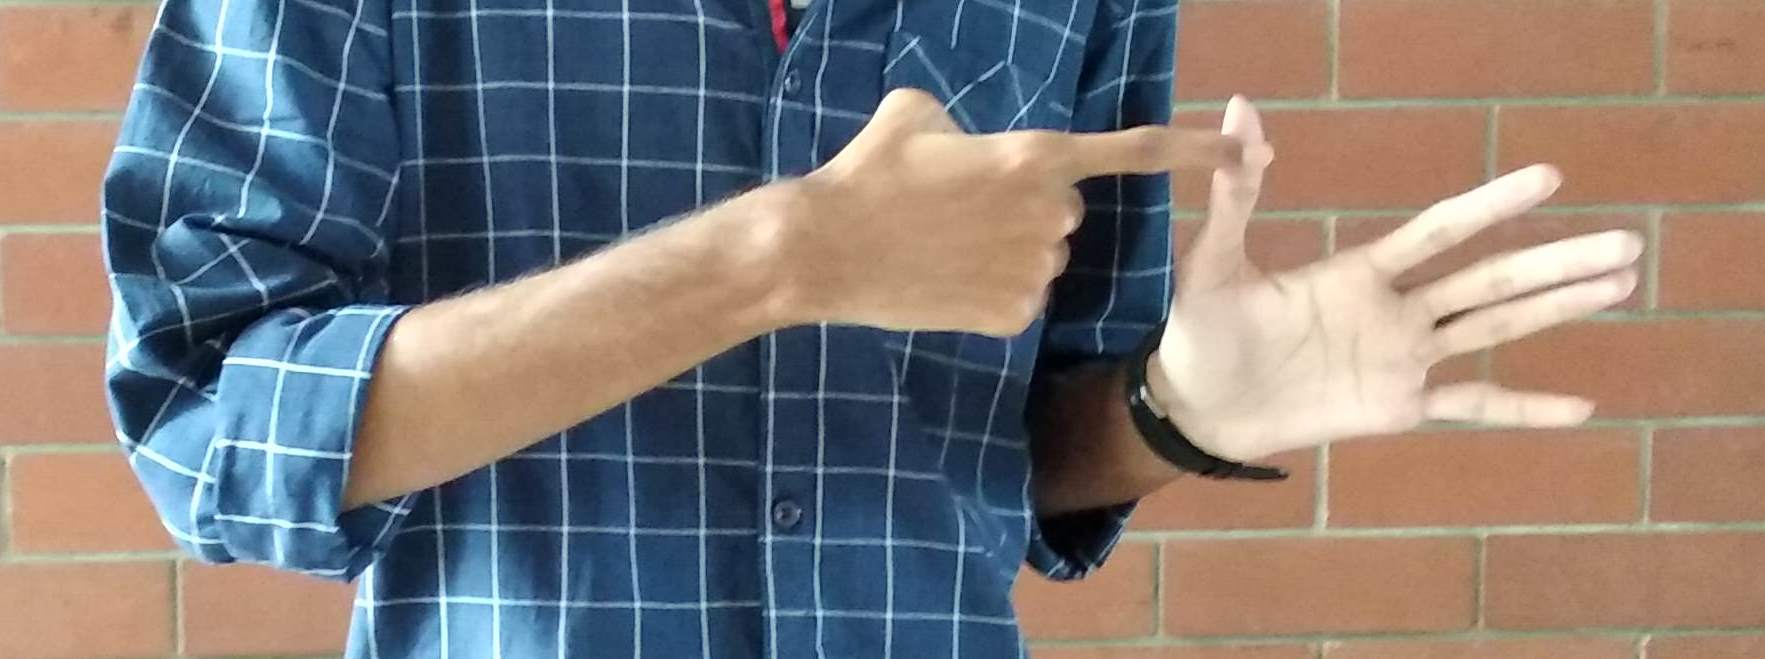a: (801, 92, 1606, 436)
